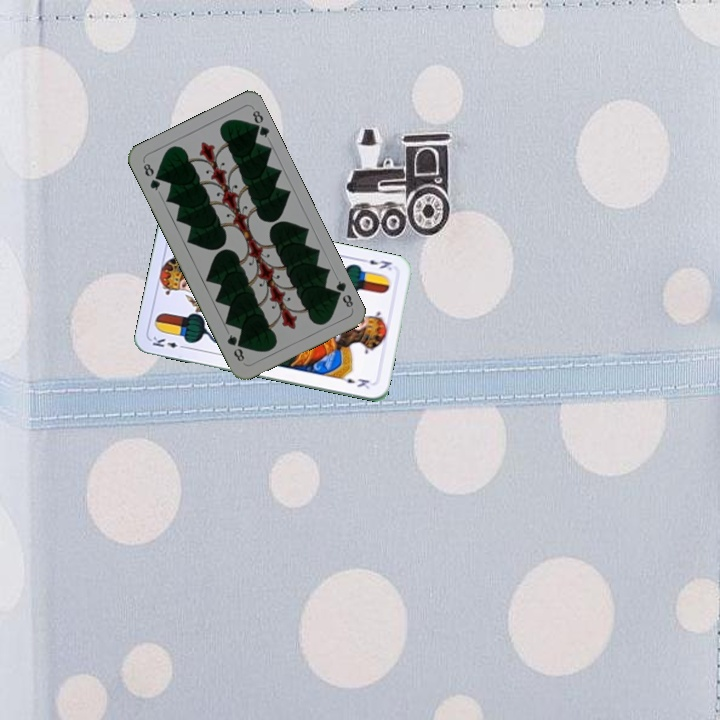EK: (148, 332, 189, 351), (358, 255, 394, 273)
G8: (329, 276, 356, 310), (139, 158, 163, 193)
